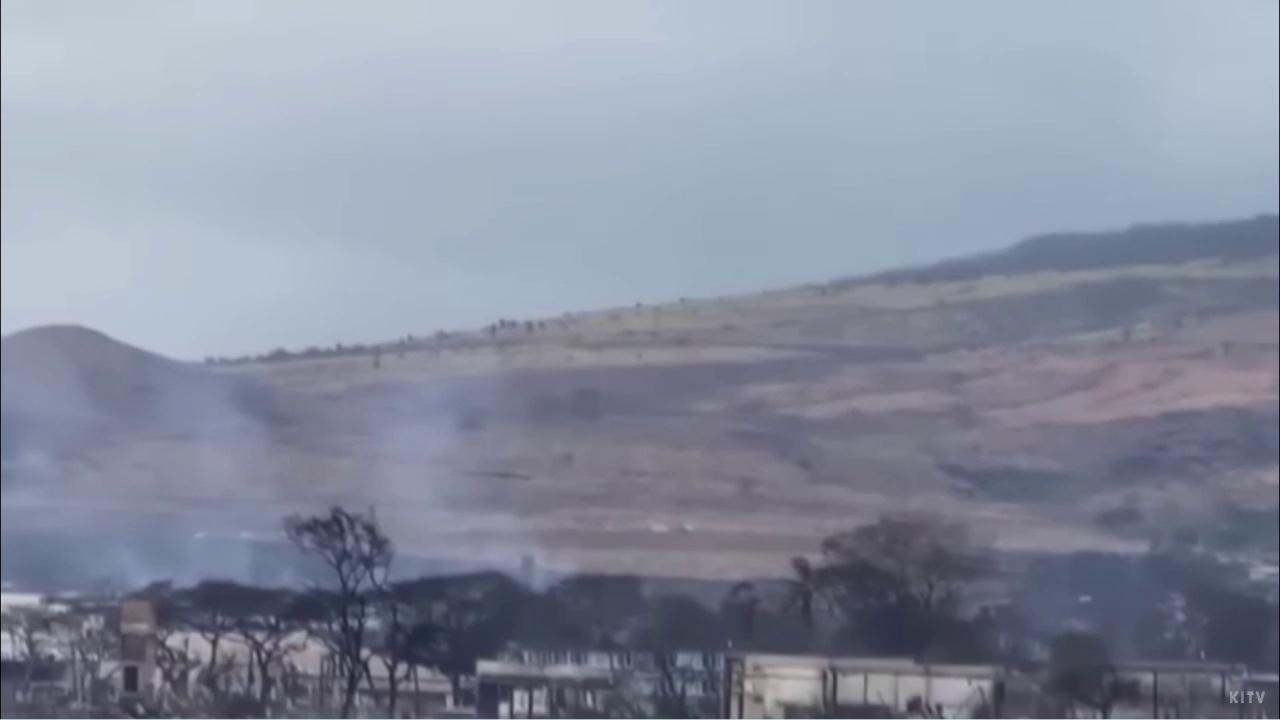smoke: (0, 328, 582, 596)
